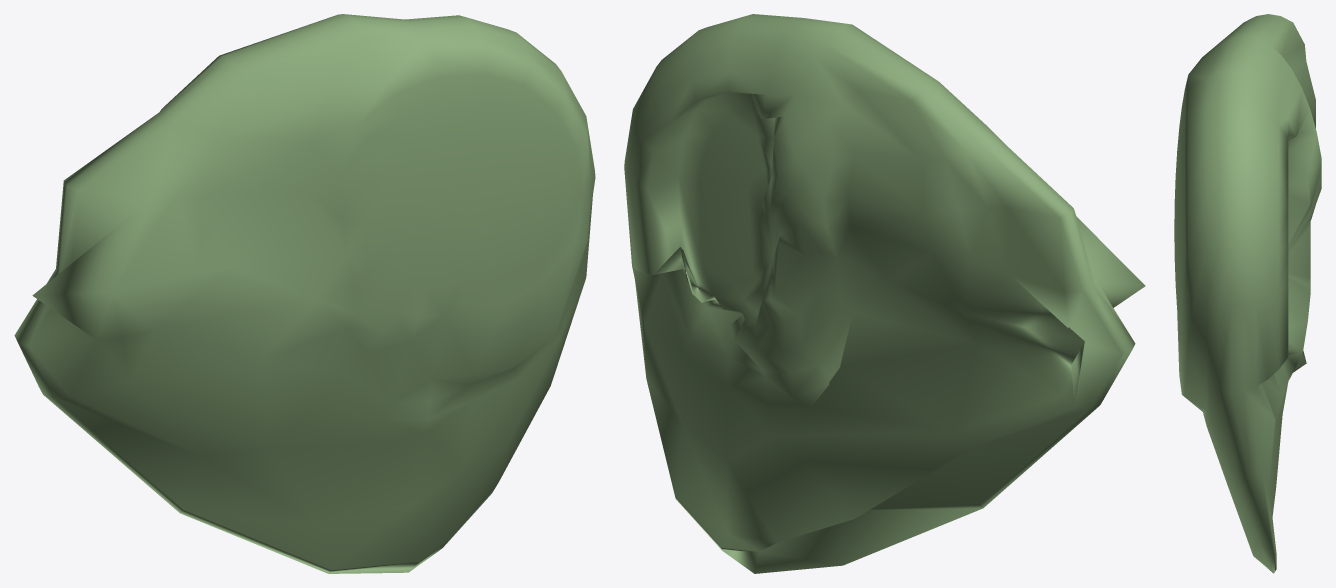
The model's file is monticulo.obj.
The picture shows the model from 3 angles, left to right: view 1: azimuth 30°, elevation 25°; view 2: azimuth 150°, elevation 25°; view 3: azimuth 270°, elevation 25°; orthographic projection. The views are drawn at different scales.
Visible parts, largest first — view 1: pSphere1_lambert34; view 2: pSphere1_lambert34; view 3: pSphere1_lambert34.
Boxes of the visible parts, left/top/right/bottom form: pSphere1_lambert34: left=14, top=14, right=595, bottom=573; pSphere1_lambert34: left=624, top=14, right=1145, bottom=573; pSphere1_lambert34: left=1174, top=14, right=1321, bottom=573.
Size of the model in its own units: 2.73 by 2.77 by 0.7307.
